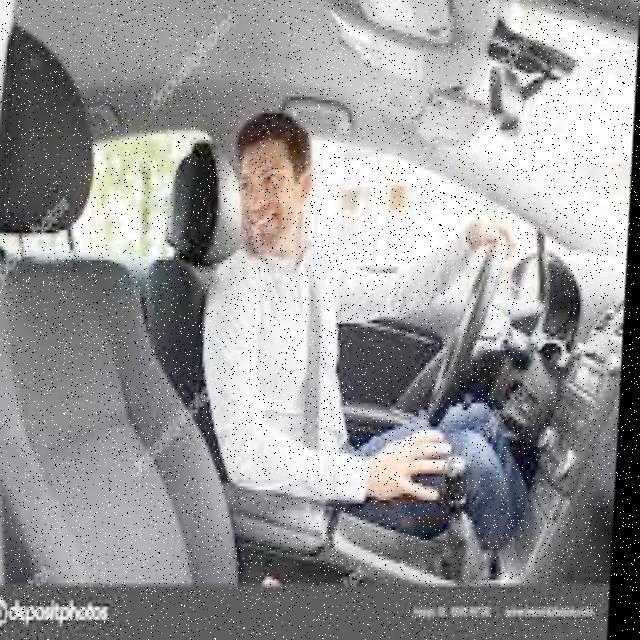seatbelt: (269, 238, 354, 482)
